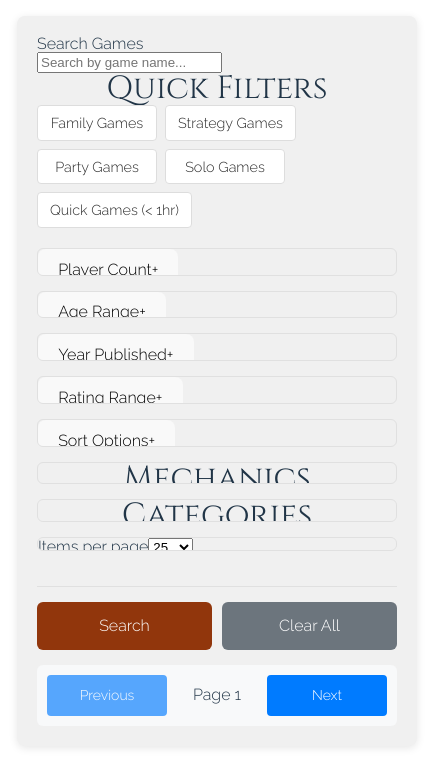
Test: AdvancedSearchBar Component › can expand and collapse filter sections
Step 1. Click the button "Player Count+" → (108, 269), box [38, 249, 178, 289]
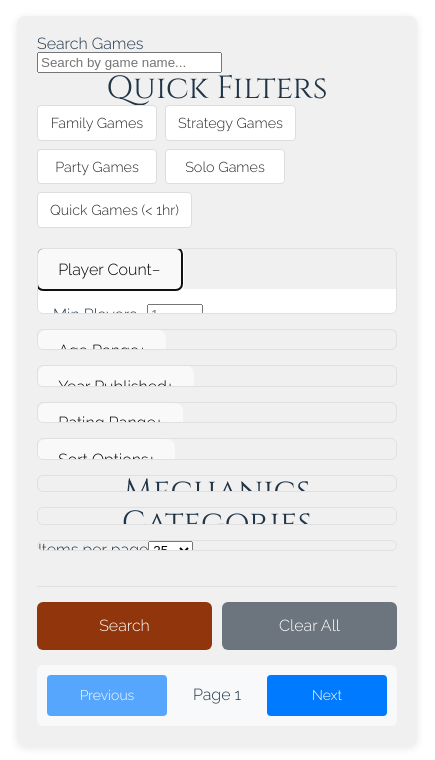
expect the button "Player Count−" is expanded: met, box [38, 249, 180, 289]
